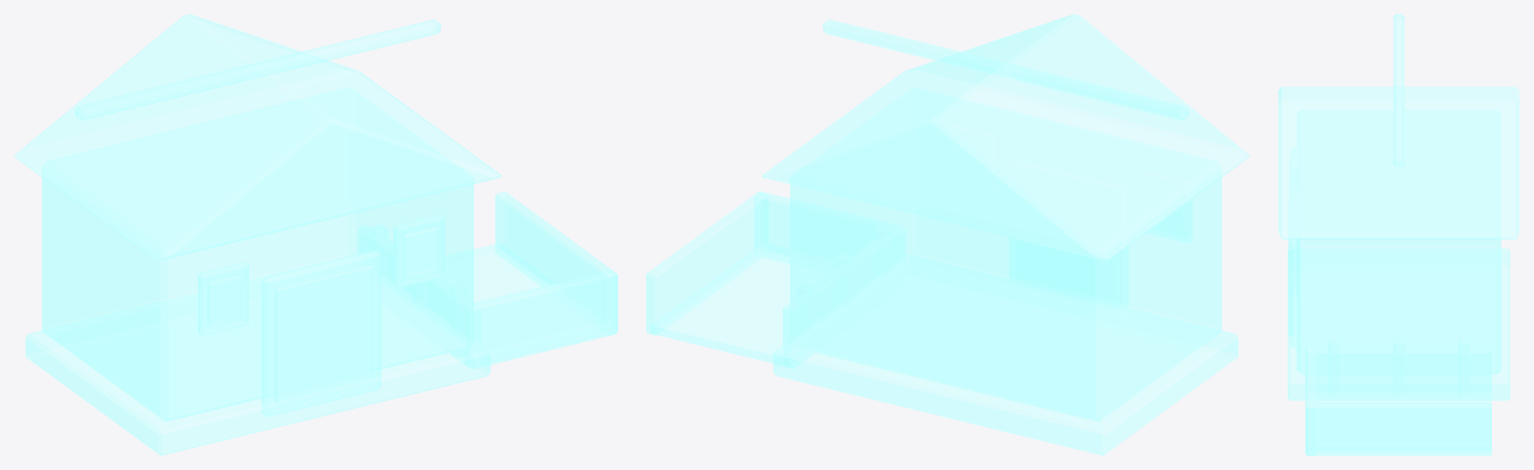
Rendered from GH_Building_Storage.fbx.
The picture shows the model from 3 angles, left to right: view 1: azimuth 30°, elevation 25°; view 2: azimuth 150°, elevation 25°; view 3: azimuth 270°, elevation 25°; orthographic projection. The views are drawn at different scales.
Visible parts, largest first — view 1: SM_Building_Storage; view 2: SM_Building_Storage; view 3: SM_Building_Storage.
Part boxes in pixels (x1=…): SM_Building_Storage: x1=14, y1=14, x2=617, y2=455; SM_Building_Storage: x1=646, y1=14, x2=1249, y2=455; SM_Building_Storage: x1=1278, y1=14, x2=1519, y2=455.
Bounding box in the file's own units: 4.96 × 2.97 × 2.6.
